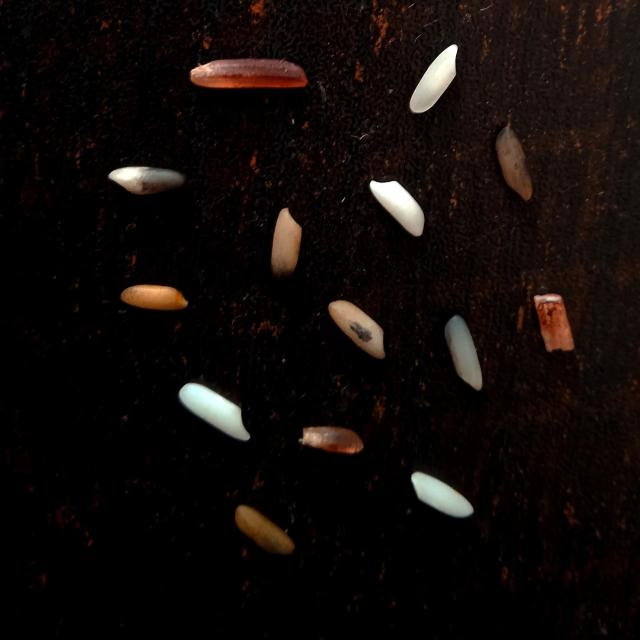Broken: (190, 58, 308, 88), (328, 300, 386, 359), (234, 504, 295, 555), (444, 314, 482, 391), (495, 126, 533, 201), (534, 294, 575, 352), (109, 166, 186, 195), (272, 208, 302, 279), (120, 284, 188, 310), (302, 426, 364, 454)
Full: (178, 382, 250, 441), (409, 44, 458, 112), (370, 180, 424, 237), (411, 472, 474, 518)
